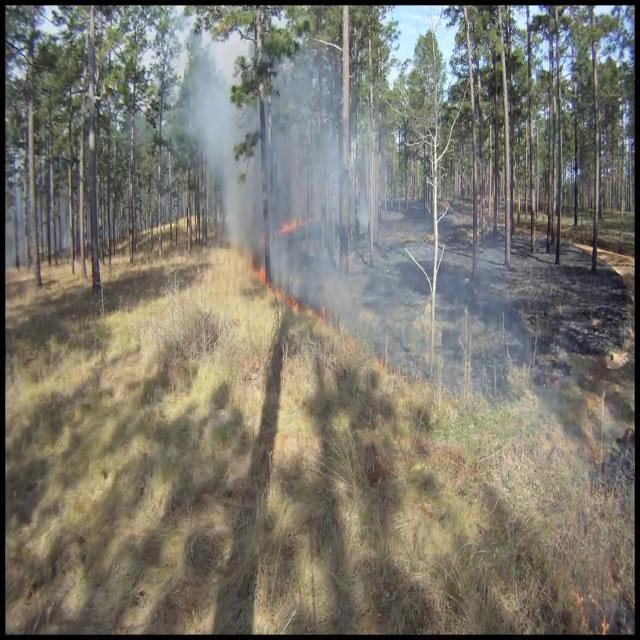Smoke: (184, 33, 342, 289)
